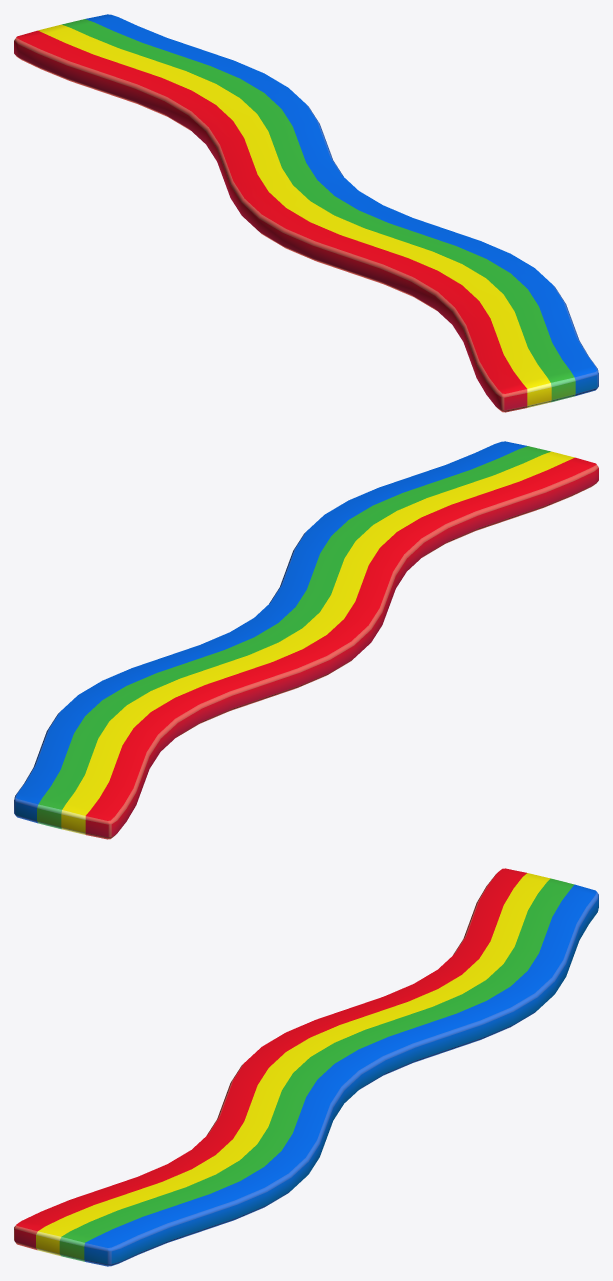
File: marmalade_001.glb
3 views of the same model, one above another, from view 1: azimuth 30°, elevation 25°; view 2: azimuth 150°, elevation 25°; view 3: azimuth 330°, elevation 25° (orthographic).
Parts seen in each view (by area): view 1: marmalade_001; view 2: marmalade_001; view 3: marmalade_001.
Boxes of the visible parts, bbox=[...] form: marmalade_001: bbox=[14, 14, 598, 412]; marmalade_001: bbox=[14, 441, 598, 839]; marmalade_001: bbox=[14, 868, 598, 1266].
Bounding box in the file's own units: 4.09 × 0.563 × 22.16.
Materials: 1 (1 with a texture image).
